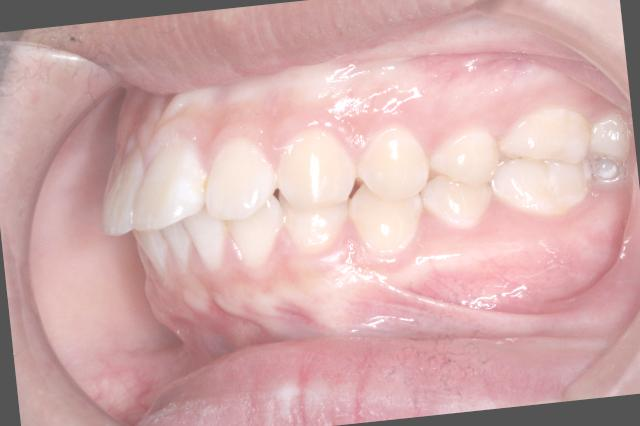canine class II 1/4: (268, 114, 428, 268)
molar class I: (484, 96, 600, 227)
